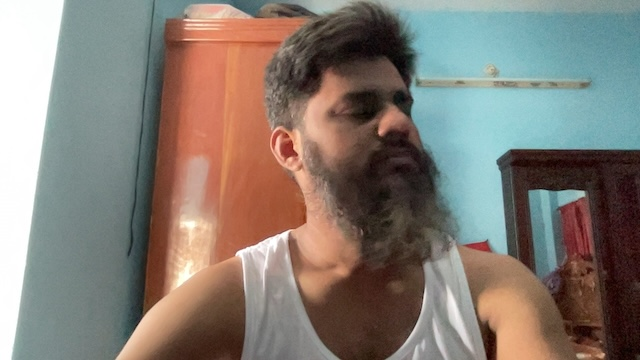Goggles: (258, 39, 443, 224)
